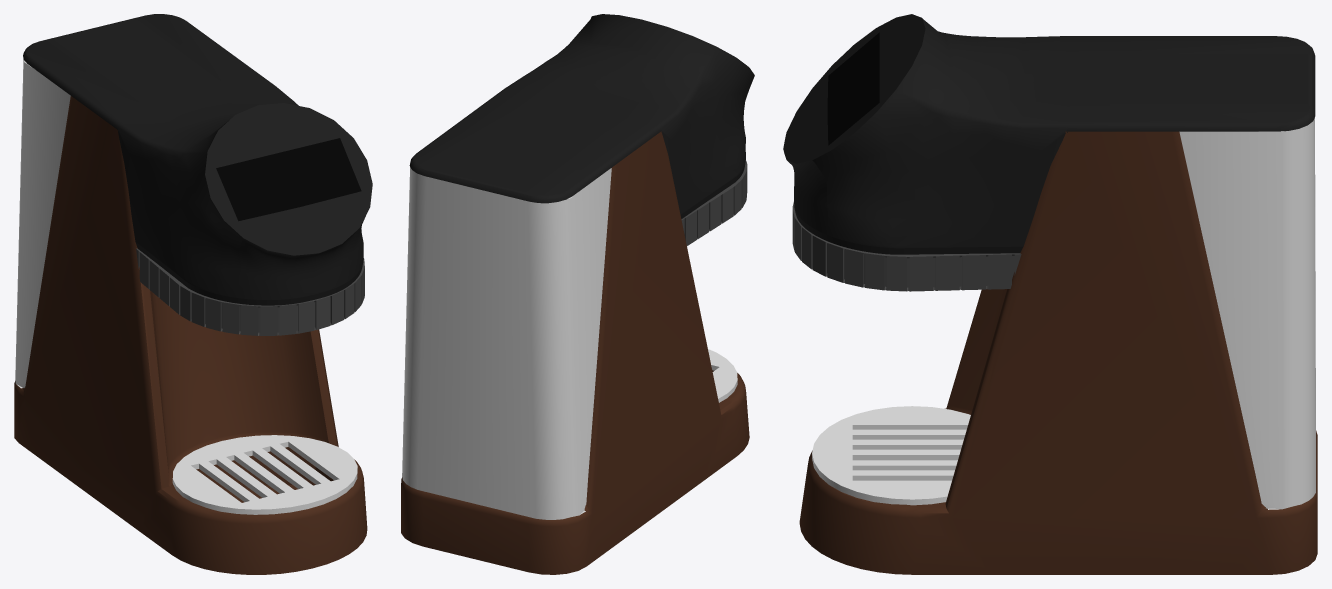
3 views of the same model, side by side, from view 1: azimuth 30°, elevation 25°; view 2: azimuth 150°, elevation 25°; view 3: azimuth 270°, elevation 25° (orthographic). The views are drawn at different scales.
Parts seen in each view (by area): view 1: Cube.009, Cube.001, Cube.012, Cube.010, Cylinder; view 2: Cube.010, Cube.009, Cube.001, Cylinder, Cube.012; view 3: Cube.009, Cube.001, Cube.010, Cube.012, Cylinder.
Boxes of the visible parts, left/top/right/bottom form: Cube.009: left=14, top=96, right=367, bottom=574; Cube.001: left=23, top=14, right=372, bottom=305; Cube.012: left=172, top=435, right=357, bottom=514; Cube.010: left=15, top=58, right=70, bottom=388; Cylinder: left=136, top=248, right=364, bottom=335; Cube.010: left=402, top=167, right=611, bottom=519; Cube.009: left=401, top=131, right=749, bottom=574; Cube.001: left=409, top=14, right=754, bottom=218; Cylinder: left=681, top=160, right=747, bottom=245; Cube.012: left=708, top=349, right=737, bottom=402; Cube.009: left=799, top=131, right=1317, bottom=574; Cube.001: left=783, top=14, right=1315, bottom=254; Cube.010: left=1179, top=117, right=1315, bottom=509; Cube.012: left=812, top=406, right=970, bottom=505; Cylinder: left=792, top=202, right=1021, bottom=291.
Bounding box in the file's own units: 143 × 316 × 309.
